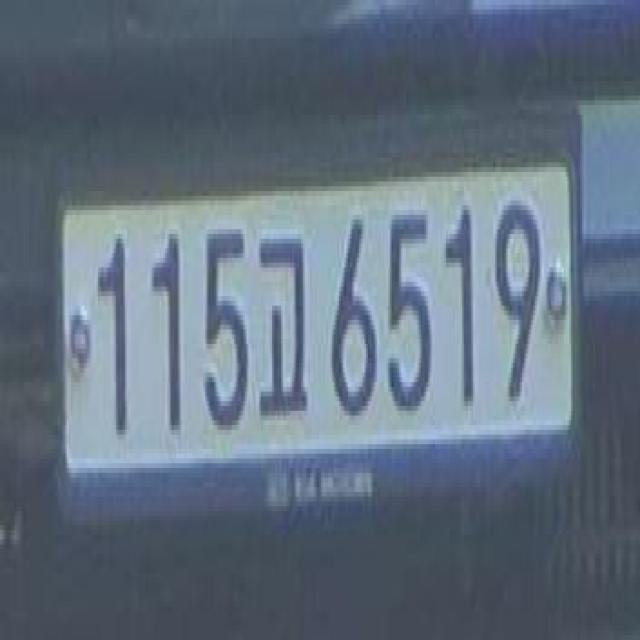illegal_plate: (49, 158, 583, 513)
